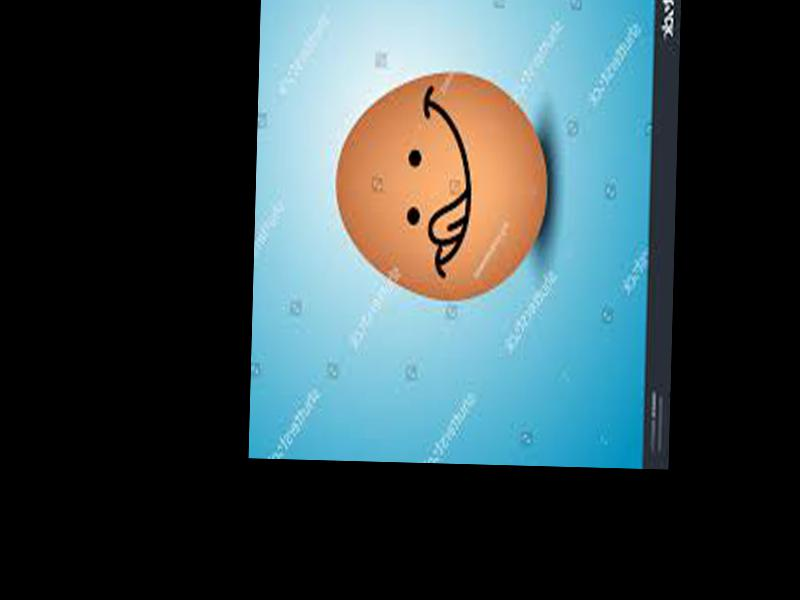Eggs: (332, 68, 550, 303)
